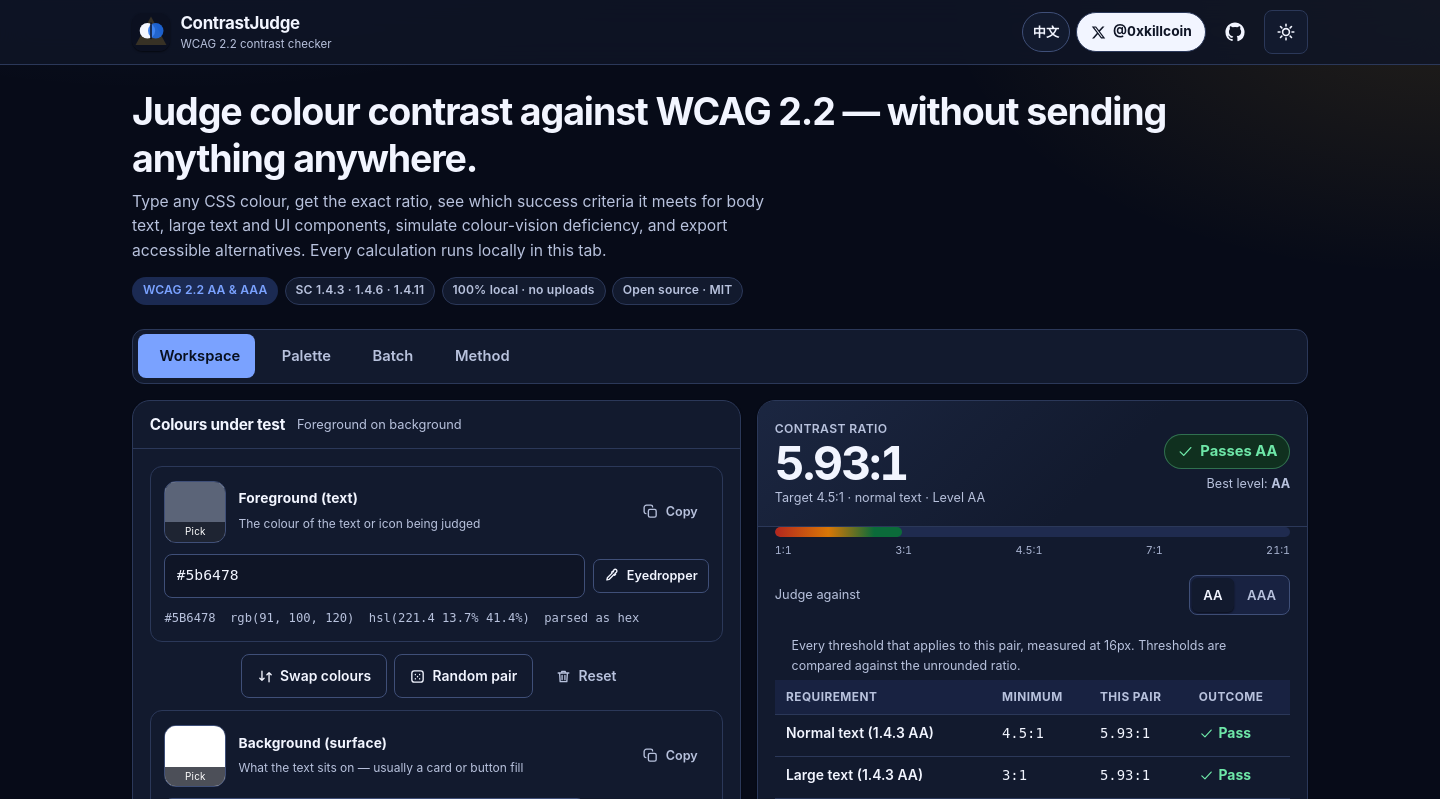
palette, export and batch tabs › evaluates the batch example and reports failing rows
Click the tab "Batch": point(390, 356) left=351, top=334, right=429, bottom=378
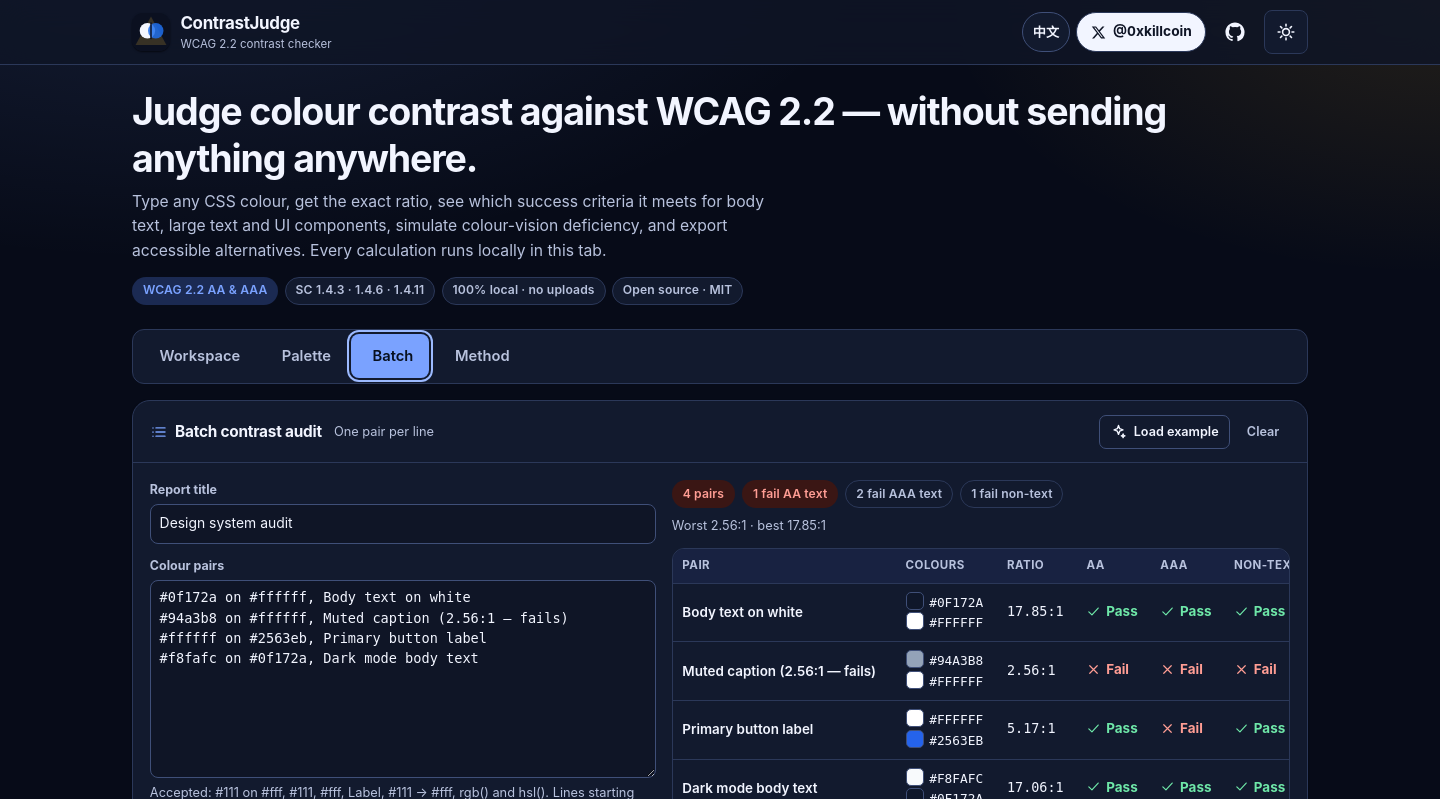
Check: the column heading "Body text on white" is shown, box left=673, top=584, right=896, bottom=642
Check: the column heading "Muted caption (2.56:1 — fails)" is shown, box left=673, top=642, right=896, bottom=700
Check: the text "1 fail AA text" is shown, box left=742, top=480, right=838, bottom=508
